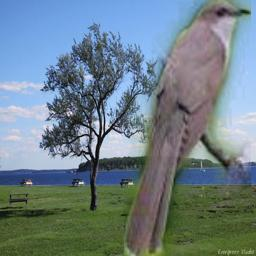Cuckoo: (124, 0, 251, 256)
